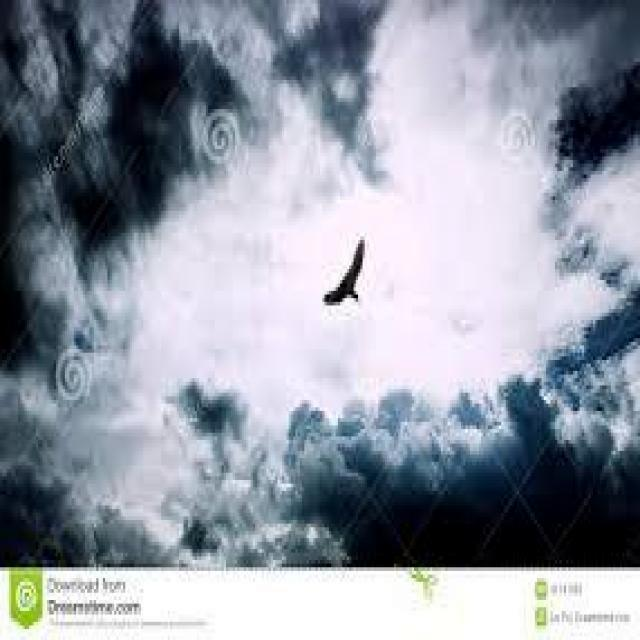bird: (322, 234, 368, 316)
